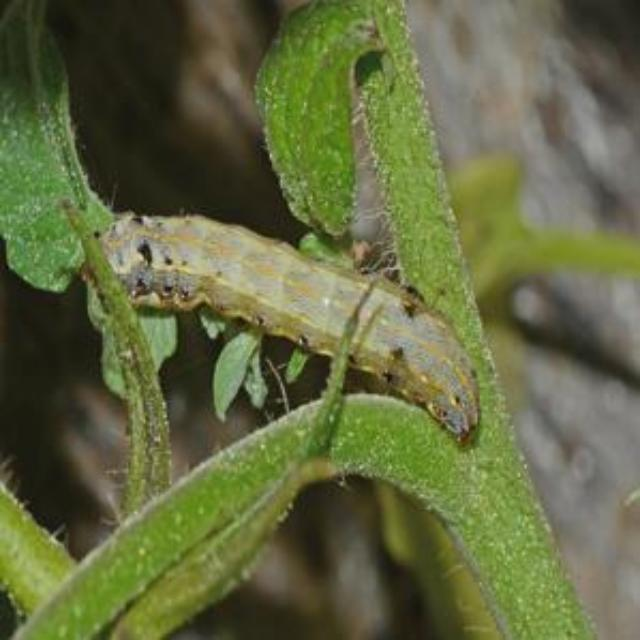Tobacco cutworm: (76, 165, 504, 501)
